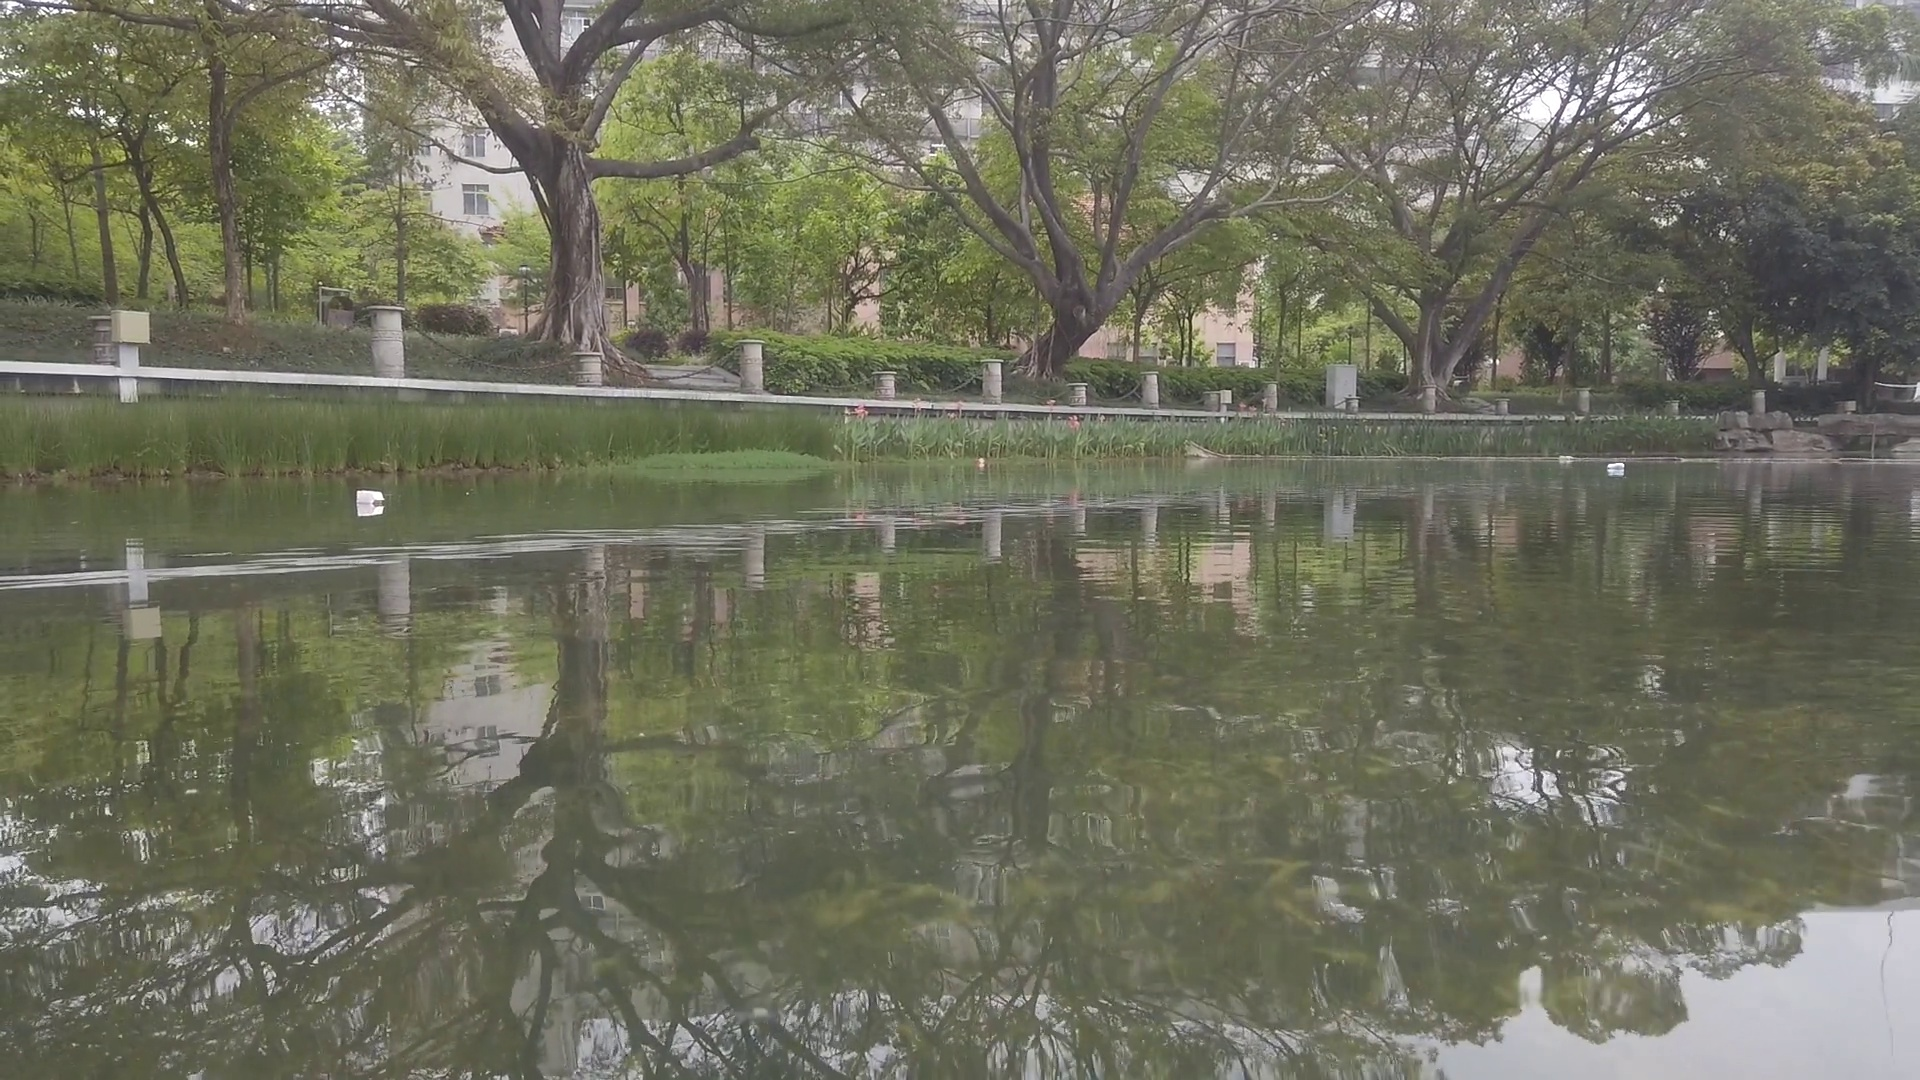bottle: (1560, 454, 1575, 463), (1607, 463, 1625, 469), (976, 458, 986, 465)
carton: (355, 491, 384, 505)
